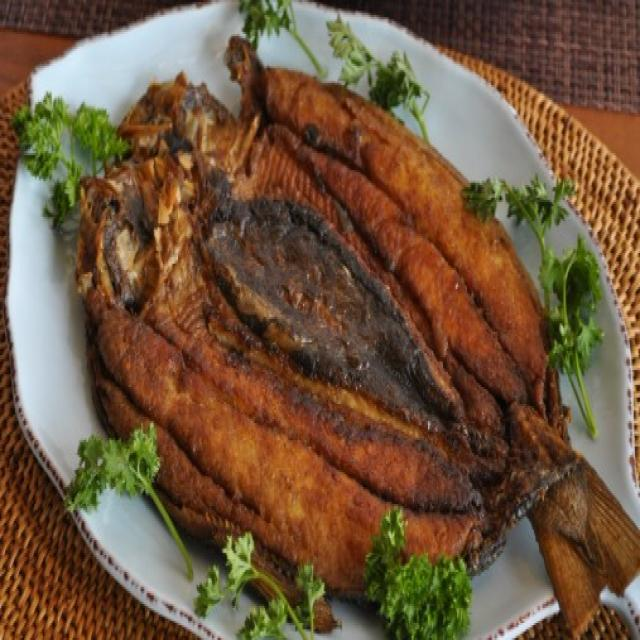FISH FRY: (73, 35, 639, 638)
